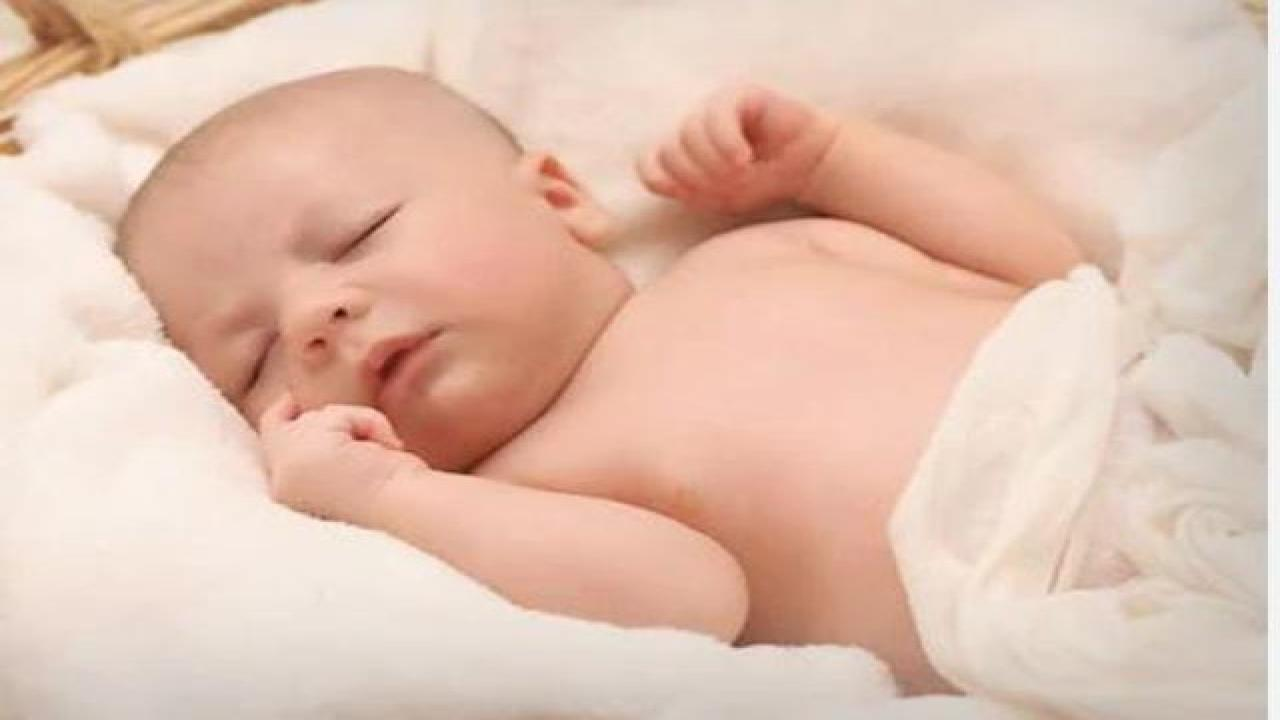hand: (636, 87, 825, 210), (261, 390, 407, 527)
